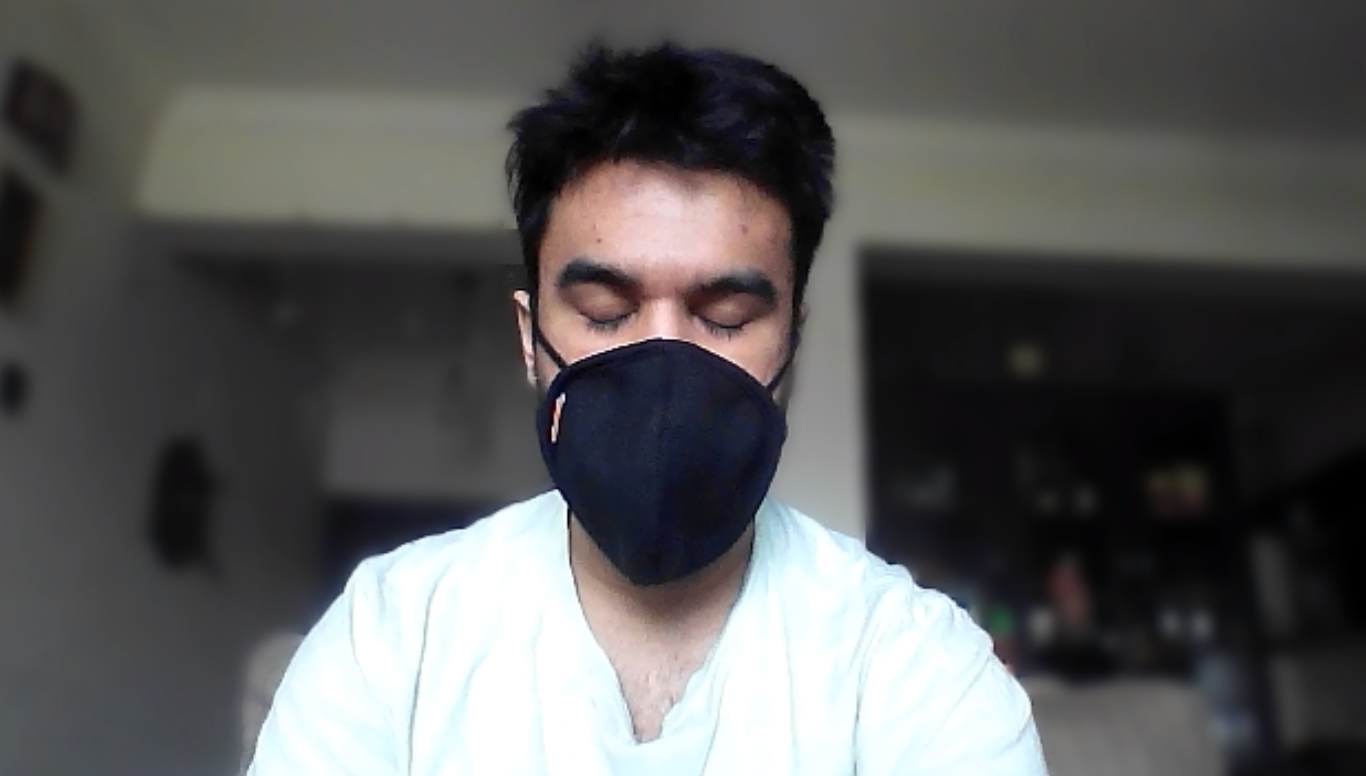Mask: (528, 336, 805, 572)
